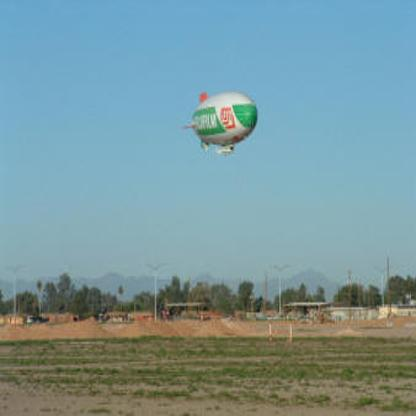Airship: (183, 89, 260, 160)
